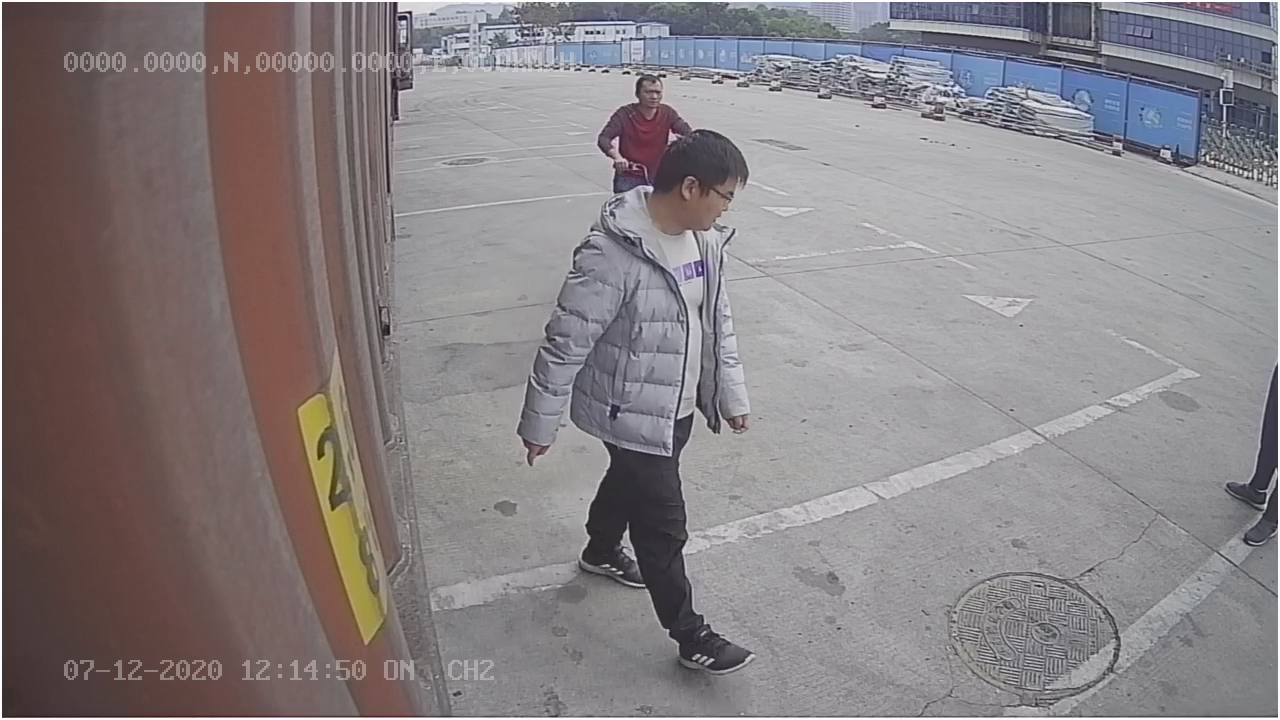person: (513, 126, 756, 676)
